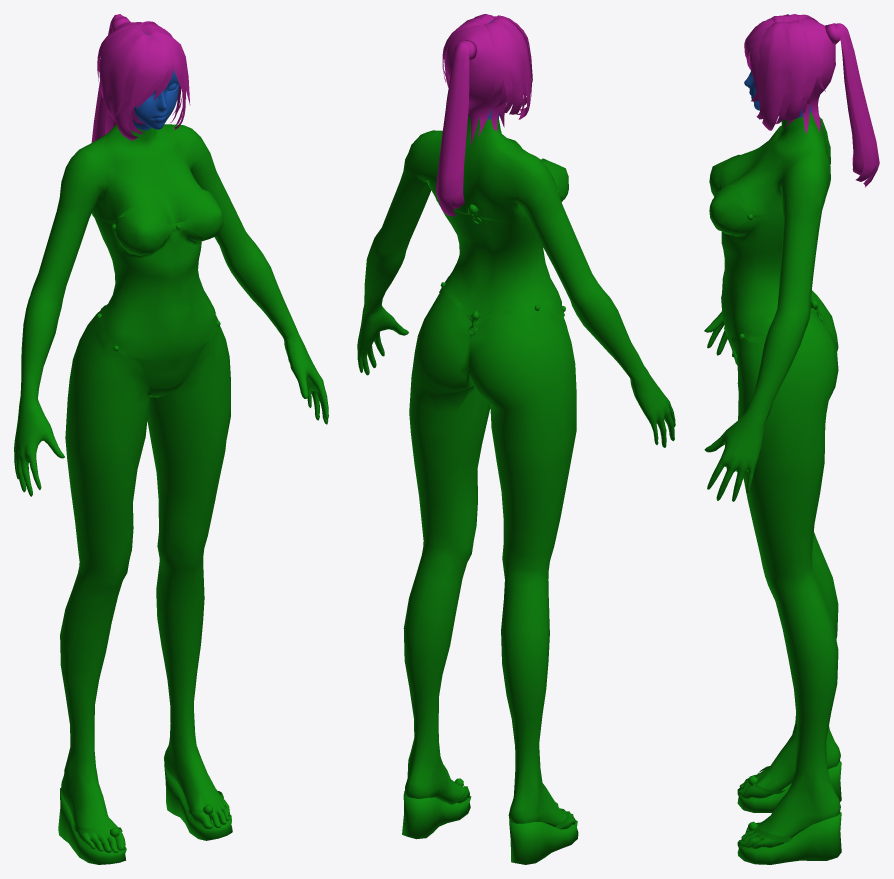
The model's file is model_mmtl.obj.
3 renders of one model, left to right at view 1: azimuth 30°, elevation 25°; view 2: azimuth 150°, elevation 25°; view 3: azimuth 270°, elevation 25°, orthographic.
Parts seen in each view (by area): view 1: MF000, MF000_2, MF000H, MF000F; view 2: MF000, MF000H, MF000_2; view 3: MF000, MF000H, MF000_2.
Boxes of the visible parts, bbox=[...] form: MF000: bbox=[14, 124, 328, 852]; MF000_2: bbox=[58, 189, 232, 864]; MF000H: bbox=[91, 14, 190, 142]; MF000F: bbox=[132, 32, 179, 130]; MF000: bbox=[357, 116, 675, 829]; MF000H: bbox=[435, 14, 532, 216]; MF000_2: bbox=[402, 158, 578, 864]; MF000: bbox=[704, 112, 840, 848]; MF000H: bbox=[744, 14, 879, 187]; MF000_2: bbox=[709, 154, 841, 864].
Bounding box in the file's own units: 0.6556 × 1.66 × 0.3254.
